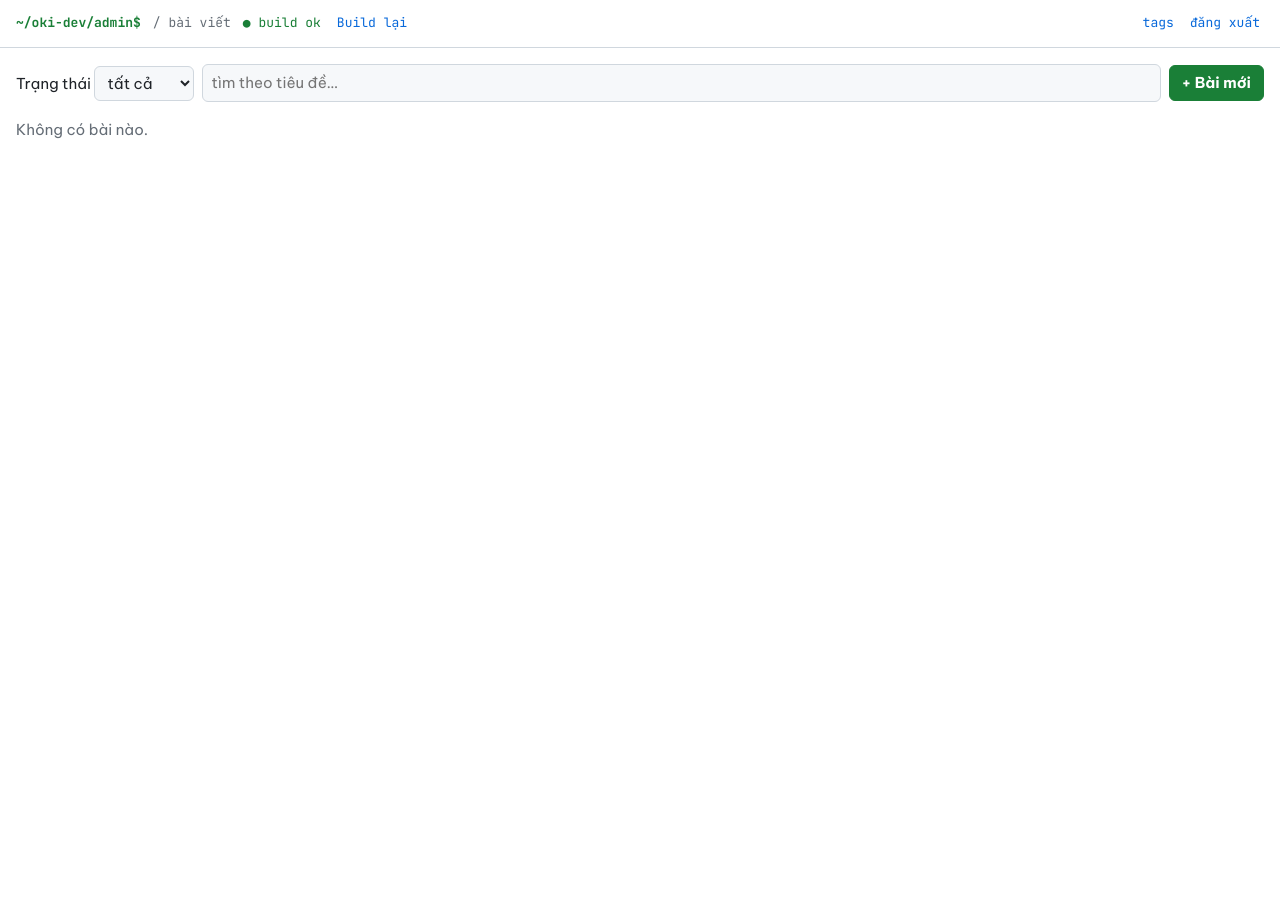
it: PostListPage › explains a taken slug
Click the button "+ Bài mới" at (1216, 83), box [1168,65,1264,101]
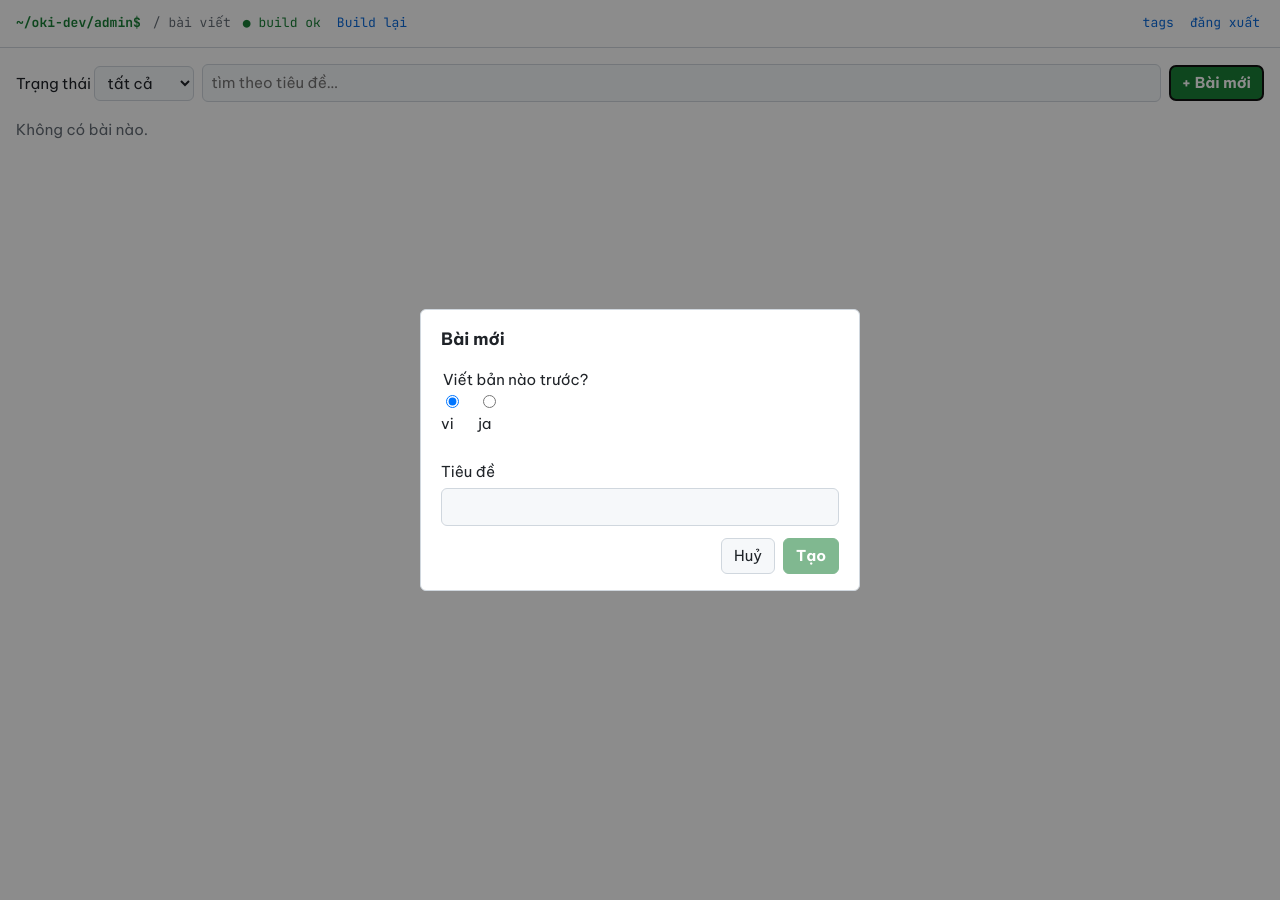
Type "Học AWS" into the field labelled "Tiêu đề" at (640, 507), box [441,488,839,526]
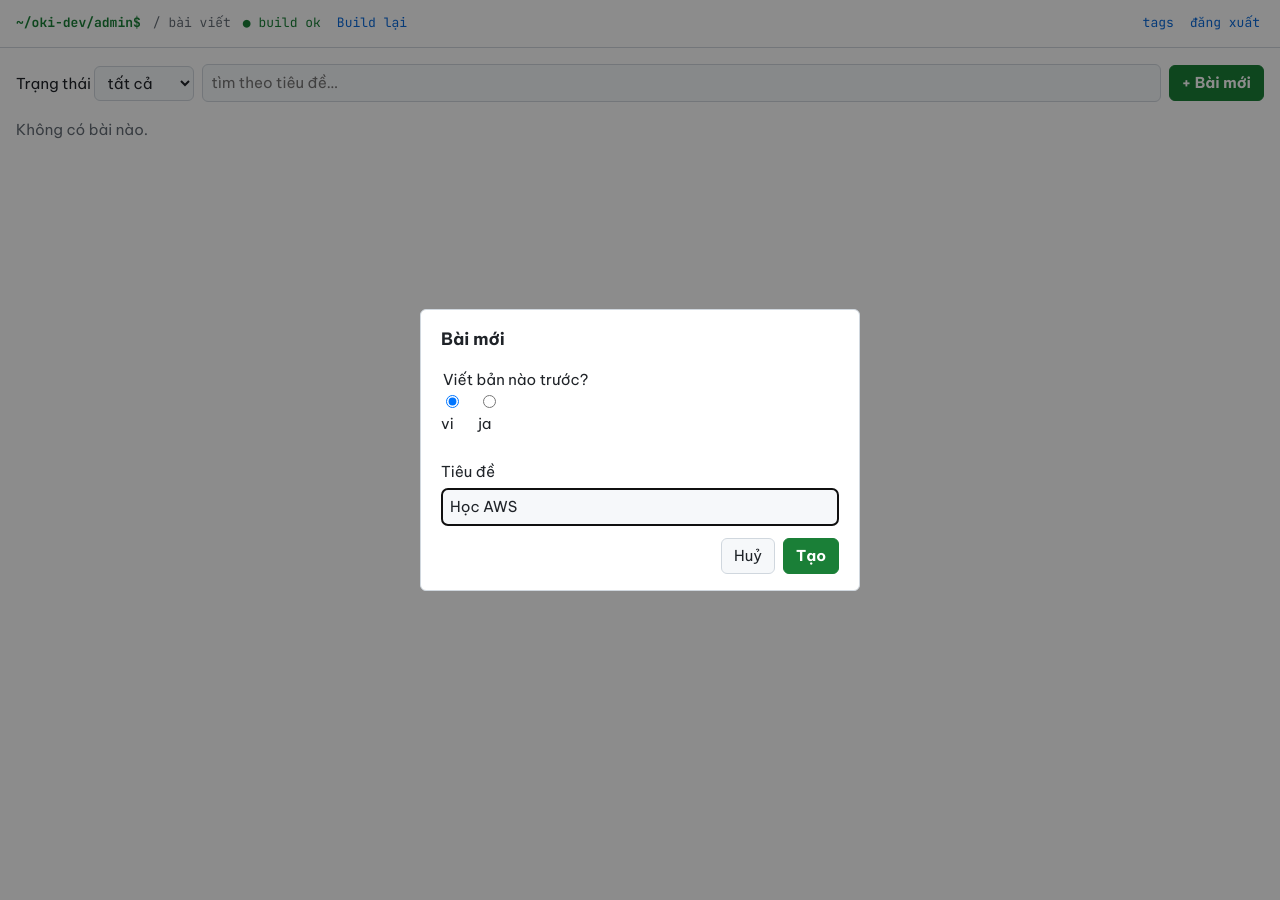
Click the button "Tạo" at (811, 556), box [783,538,839,574]
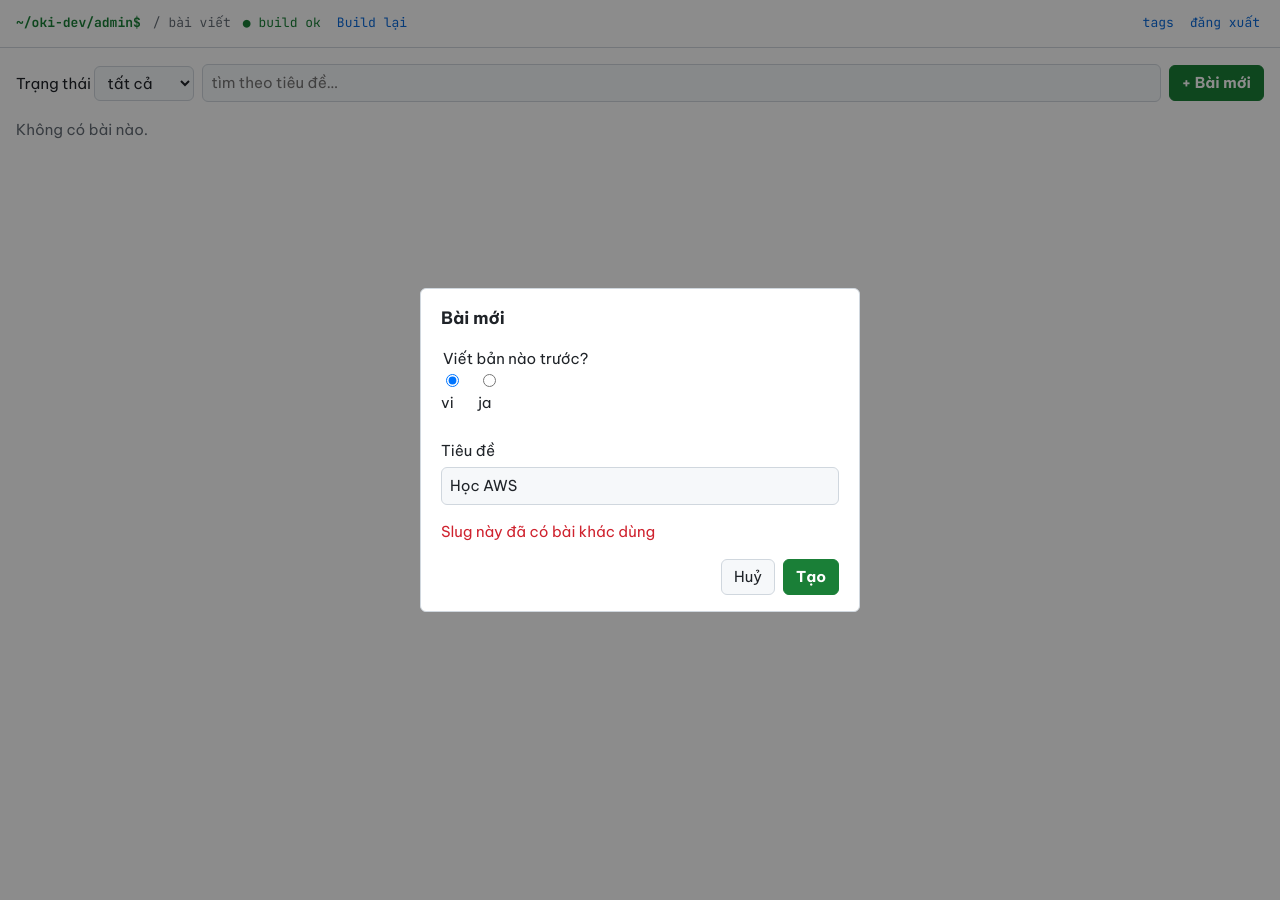
Result: the message reads "Slug này đã có bài khác dùng" at [441,522,655,541]
